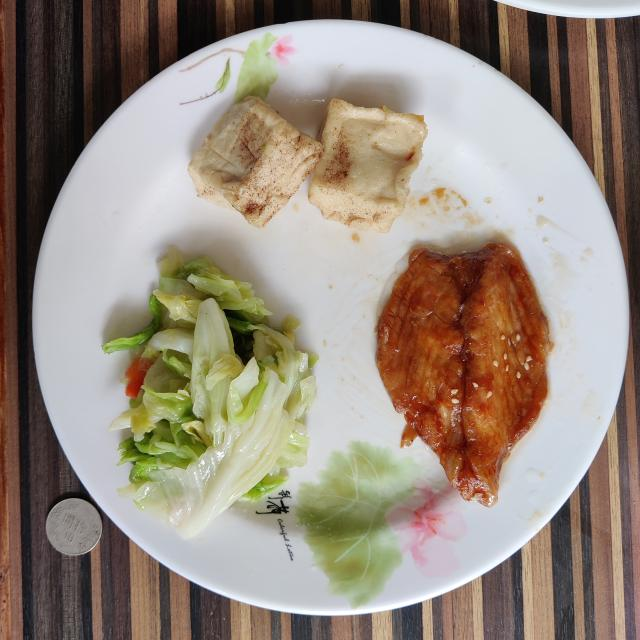Kabayaki sea bream fillet: (378, 242, 551, 506)
cabbage: (102, 246, 318, 538)
coin: (46, 498, 102, 556)
creamy tofu -without sauce-: (189, 96, 428, 232)
